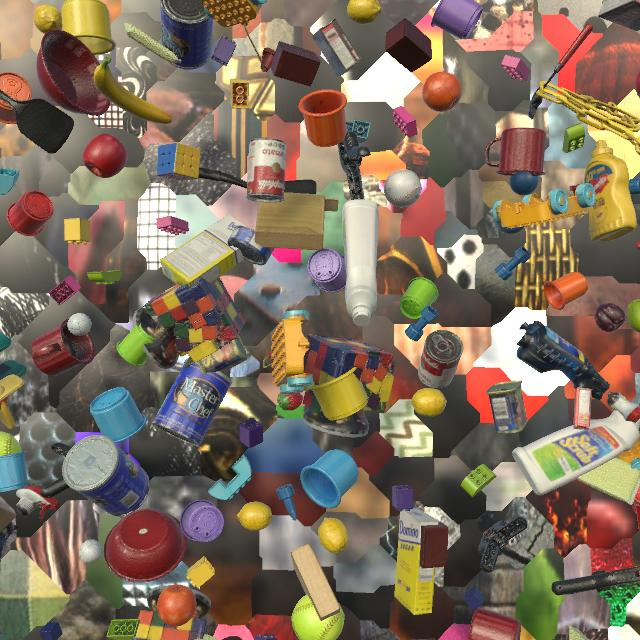ycb_002_master_chef_can: (62, 435, 150, 516), (152, 359, 232, 447), (160, 0, 214, 70)
ycb_004_sugar_box: (160, 214, 247, 287), (394, 508, 439, 615)
ycb_005_tomato_soup_can: (418, 330, 463, 389), (246, 138, 286, 203)
ycb_006_mustard_bottle: (584, 140, 637, 242)
ycb_007_tuna_fish_can: (227, 225, 274, 265)
ycb_008_pudding_box: (312, 19, 361, 77), (598, 0, 640, 31)
ycb_009_gelatin_box: (573, 388, 592, 430)
ycb_010_potted_meat_can: (486, 380, 528, 434), (198, 334, 247, 375)
ycb_011_banana: (94, 57, 172, 124)
ycb_012_strawberry: (277, 393, 303, 411)
ycb_013_apple: (83, 133, 128, 178), (635, 71, 640, 98)
ycb_014_lemon: (318, 518, 348, 553), (237, 502, 273, 531), (412, 388, 447, 417), (33, 5, 63, 34), (347, 0, 381, 25)
ycb_016_pear: (627, 299, 640, 333)
ycb_017_orange: (157, 585, 196, 627), (422, 72, 462, 112)
ycb_018_plum: (595, 303, 626, 332)
